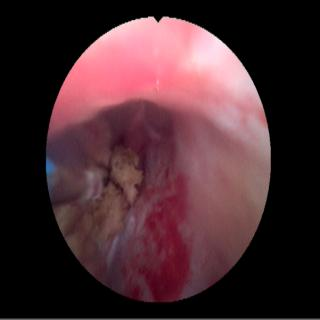stone: (57, 204, 100, 269), (93, 184, 126, 243), (111, 146, 141, 204)
tissue: (49, 21, 269, 298)
